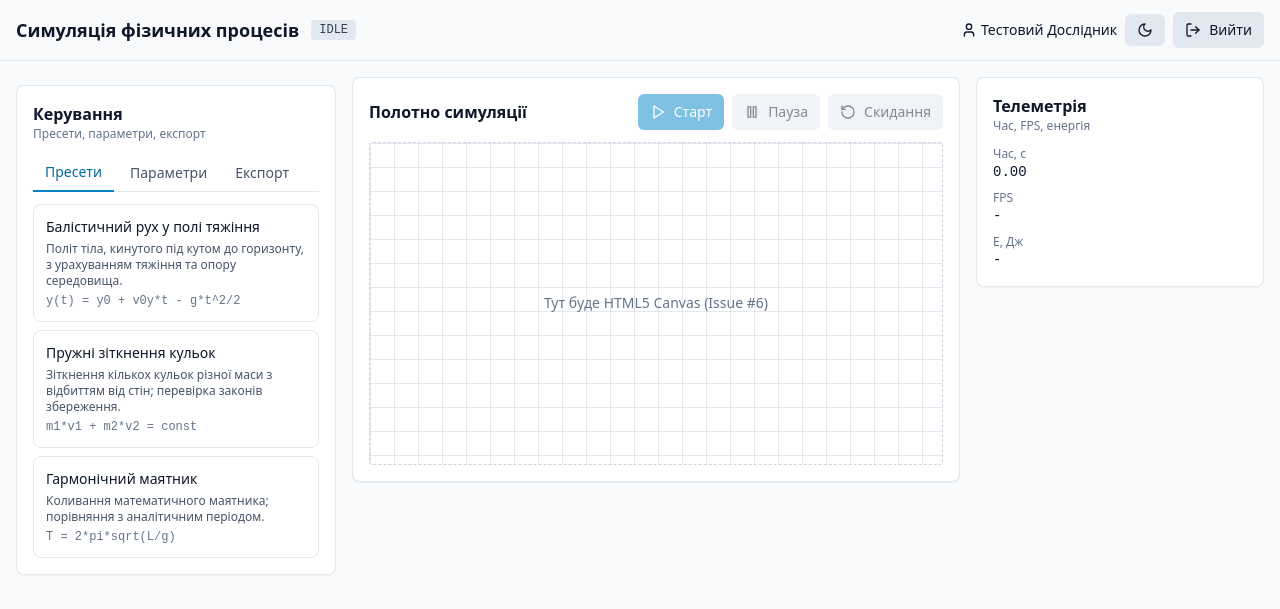
Scenario: Вихід із сесії › повертає на екран входу та видаляє профіль зі сховища
Step 1. Click the button with aria-label "Вийти з профілю" → click(1219, 30), box [1173,12,1264,48]
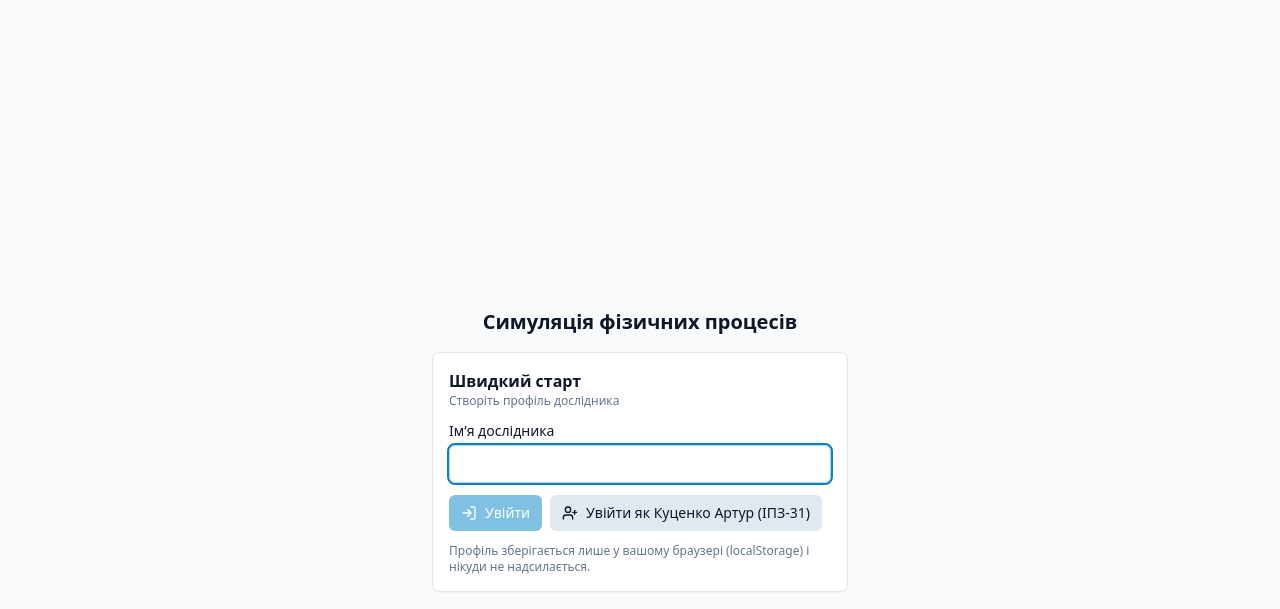
Result: the heading "Швидкий старт" is shown at [449,370,581,392]
Result: the header with test id "workspace-header" is gone
